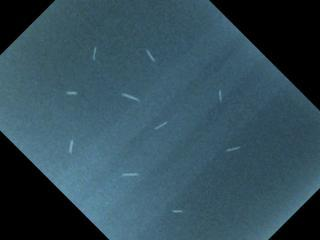scratch: (121, 92, 140, 102), (145, 49, 156, 62), (154, 121, 168, 130), (226, 146, 241, 152), (121, 172, 139, 177), (68, 139, 74, 153), (92, 46, 97, 61), (218, 89, 223, 102), (66, 91, 78, 96), (172, 209, 183, 213)
